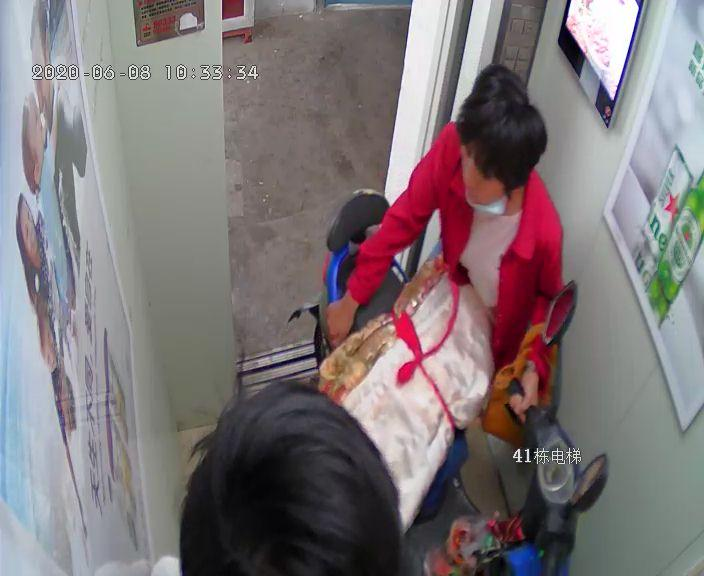Electric-bicycle: (330, 190, 577, 574)
